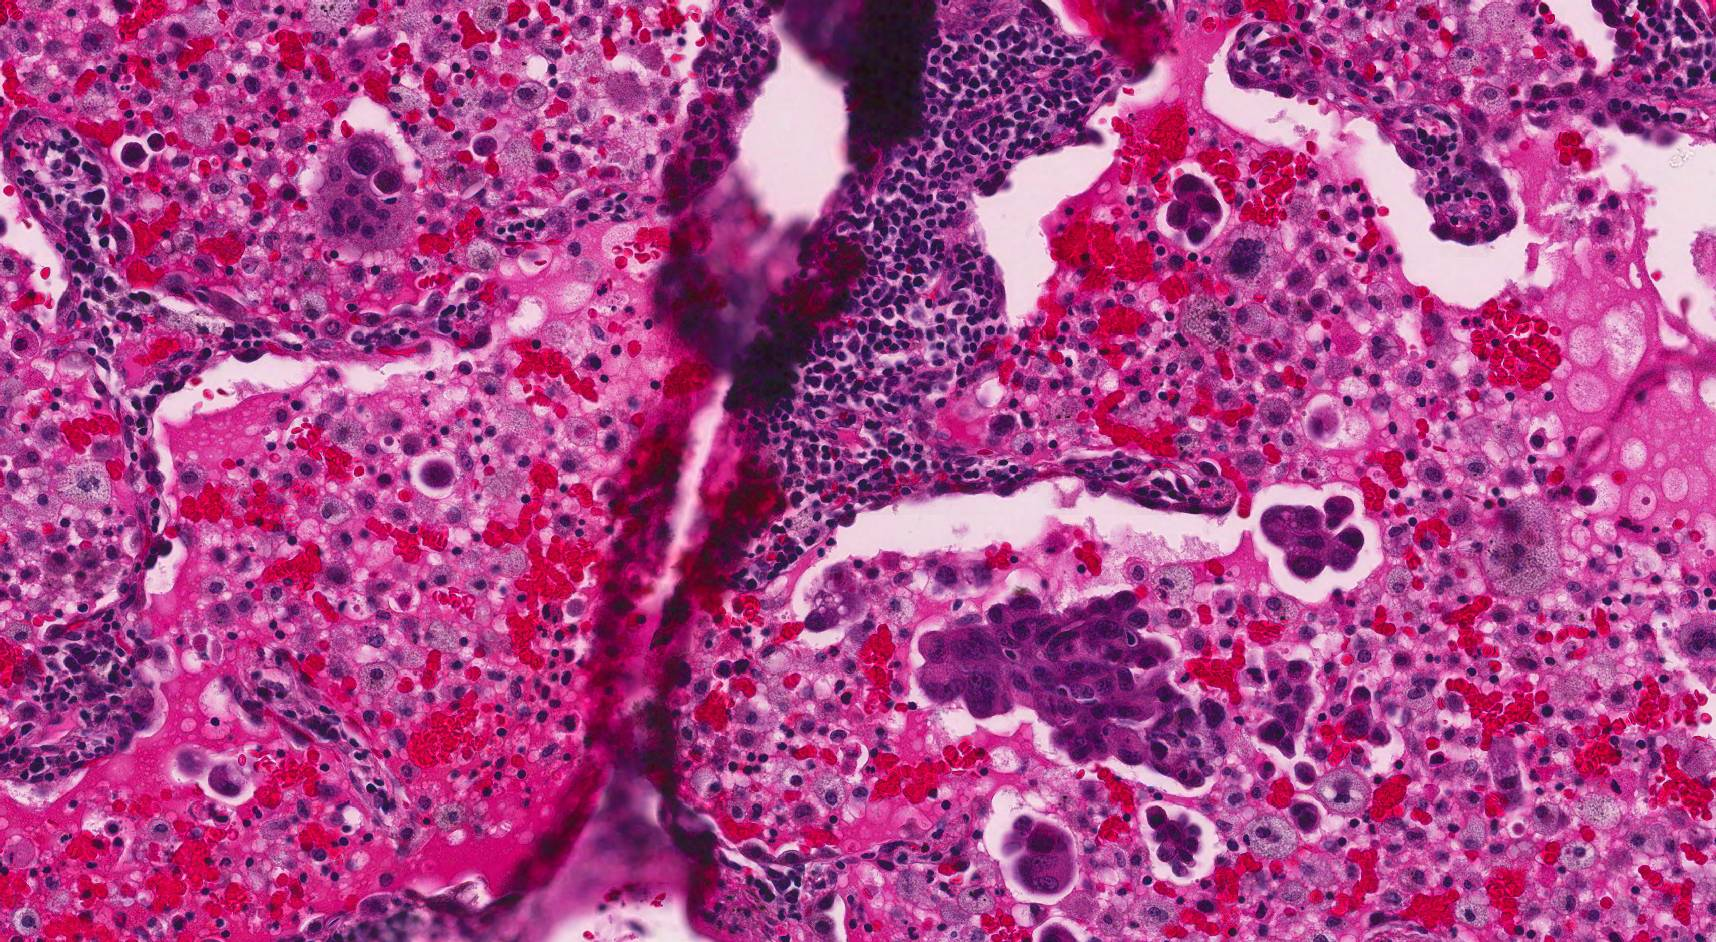stas: (913, 588, 1225, 790), (1258, 493, 1364, 583), (1256, 654, 1314, 757), (1002, 814, 1077, 893), (1165, 173, 1225, 245), (1149, 803, 1203, 879), (1338, 683, 1391, 746)
